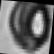correct: (3, 1, 53, 54)
